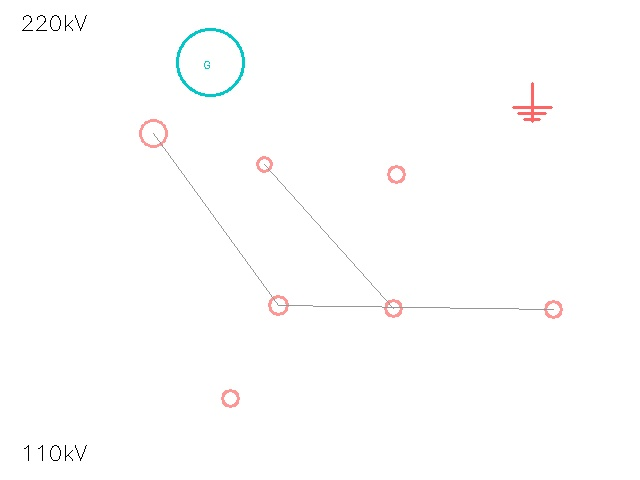current_transformer: (260, 287, 296, 323), (380, 158, 412, 190)
disconnect_switch: (127, 107, 179, 159)
feeder_terminal: (213, 381, 247, 415), (376, 291, 410, 325)
generator: (177, 29, 243, 95)
ground: (513, 83, 551, 121)
load_break_switch: (537, 293, 569, 325), (249, 149, 279, 179)
